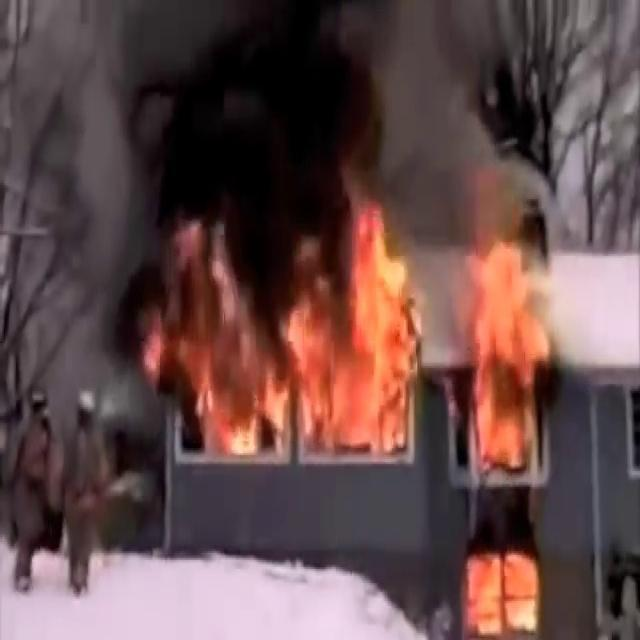Fire: (158, 193, 424, 472), (468, 187, 556, 480), (461, 538, 551, 640)
Smoke: (27, 0, 524, 265)
